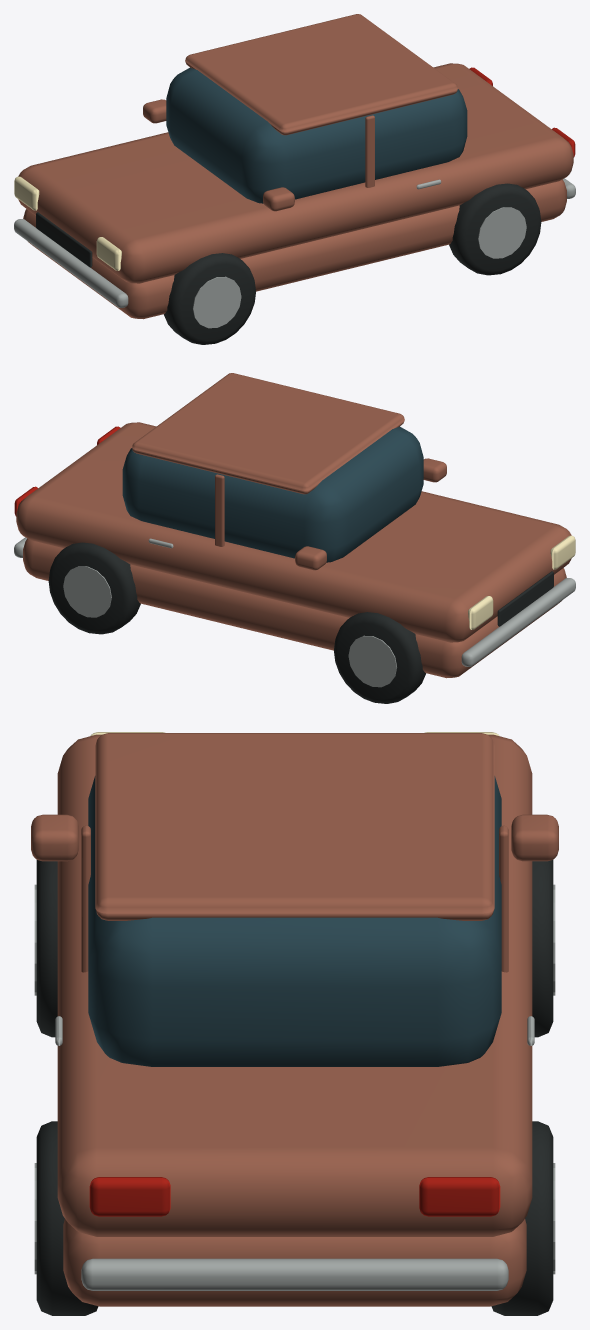
The model's file is car.glb.
3 renders of one model, top to bottom at view 1: azimuth 30°, elevation 25°; view 2: azimuth 150°, elevation 25°; view 3: azimuth 270°, elevation 25°, orthographic. The views are drawn at different scales.
Parts seen in each view (by area): view 1: Car / coachwork; view 2: Car / coachwork; view 3: Car / coachwork.
Boxes of the visible parts, <box> form: Car / coachwork: <box>14,14,575,344</box>; Car / coachwork: <box>14,373,575,703</box>; Car / coachwork: <box>31,732,558,1315</box>.
Bounding box in the file's own units: 3.83 × 1.49 × 1.89.
